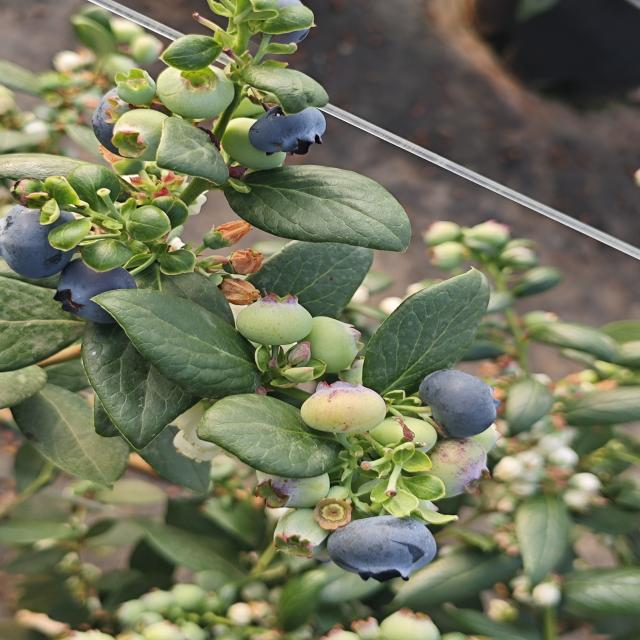ripe: (323, 514, 440, 584), (90, 88, 178, 160), (415, 368, 502, 440), (0, 209, 70, 278), (245, 103, 329, 159), (67, 270, 131, 323)
